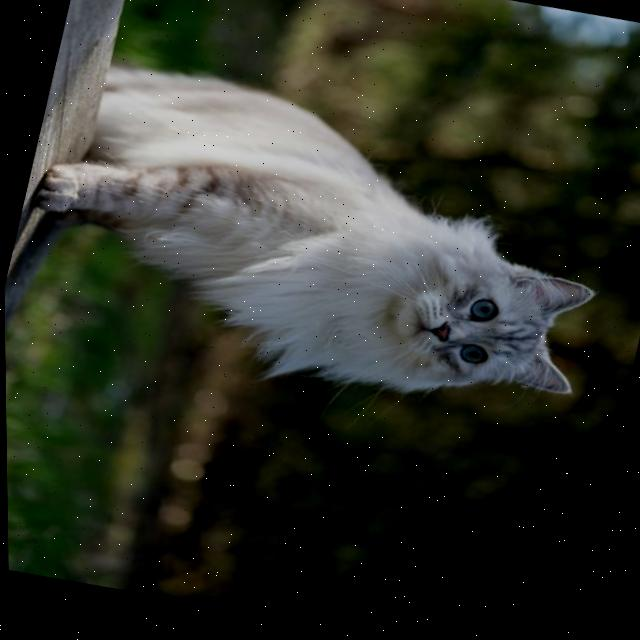Neva Masquerade: (1, 12, 637, 471)
